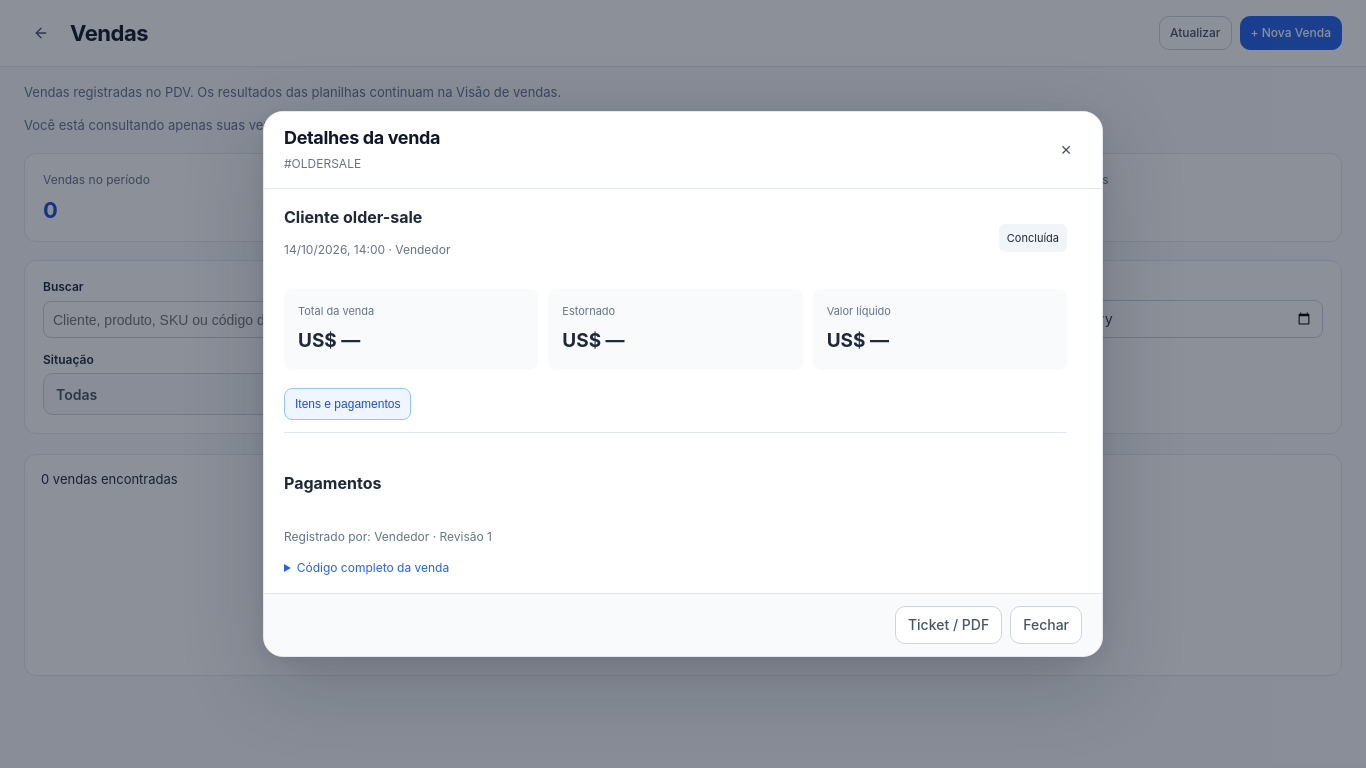
it: Customer-to-sale navigation › opens a linked sale outside the current page and retains employee permissions
Expected: the dialog shows "Cliente older-sale", [284, 207, 422, 227]
Click the button "Fechar" at (1046, 625), box [1010, 606, 1082, 644]
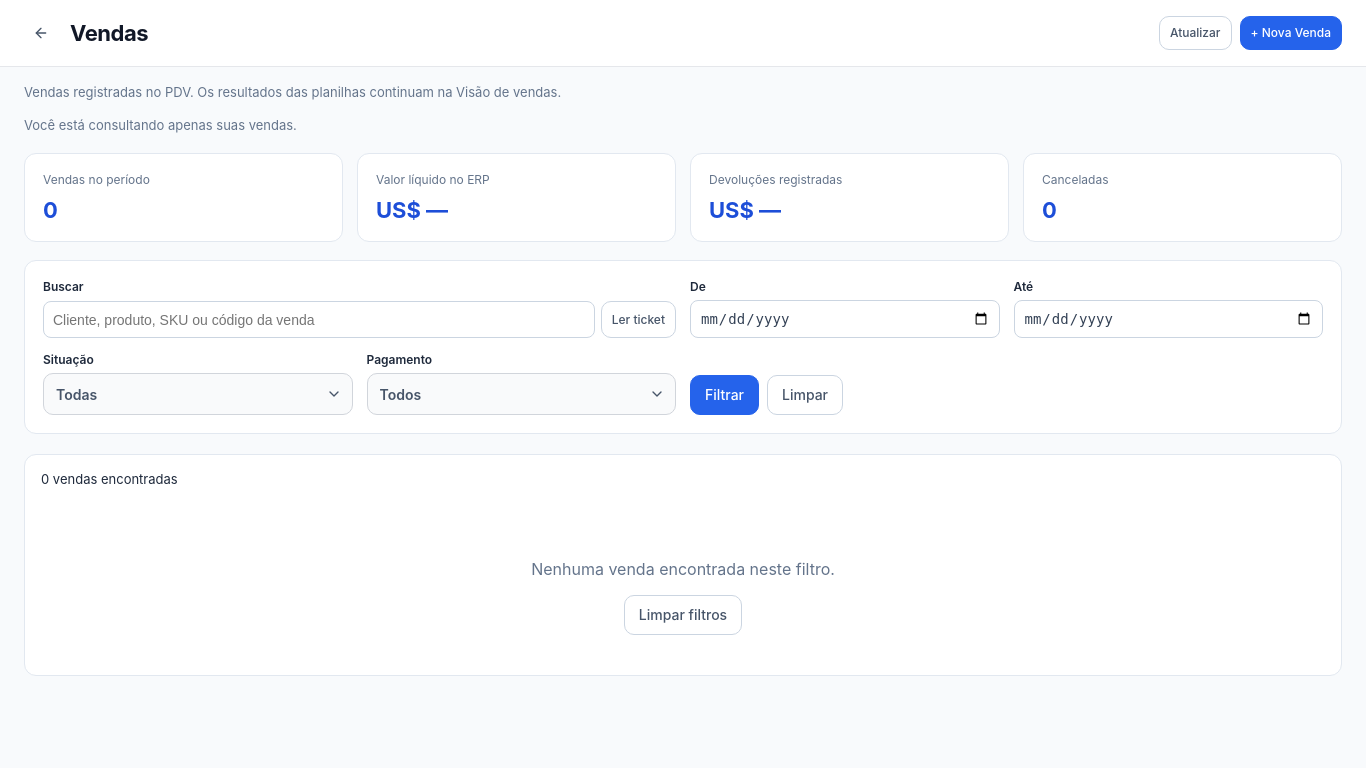
Now the dialog is gone
